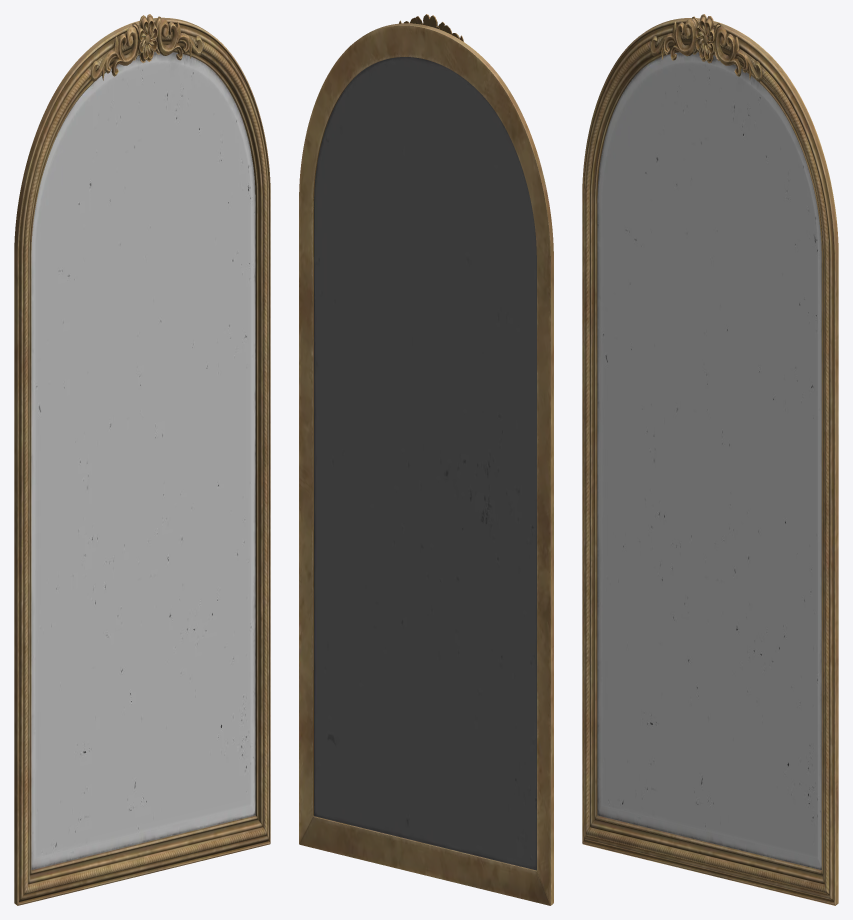
File: mirror.glb
3 renders of one model, left to right at view 1: azimuth 30°, elevation 25°; view 2: azimuth 150°, elevation 25°; view 3: azimuth 330°, elevation 25°, orthographic.
Parts seen in each view (by area): view 1: ornate_mirror_01.001; view 2: ornate_mirror_01.001; view 3: ornate_mirror_01.001.
Part boxes in pixels (x1,y1,x2,y2): ornate_mirror_01.001: [14, 14, 270, 905]; ornate_mirror_01.001: [299, 14, 553, 905]; ornate_mirror_01.001: [582, 14, 838, 905].
Bounding box in the file's own units: 11.27 × 36.62 × 0.6013.
Materials: 1 (1 with a texture image).
